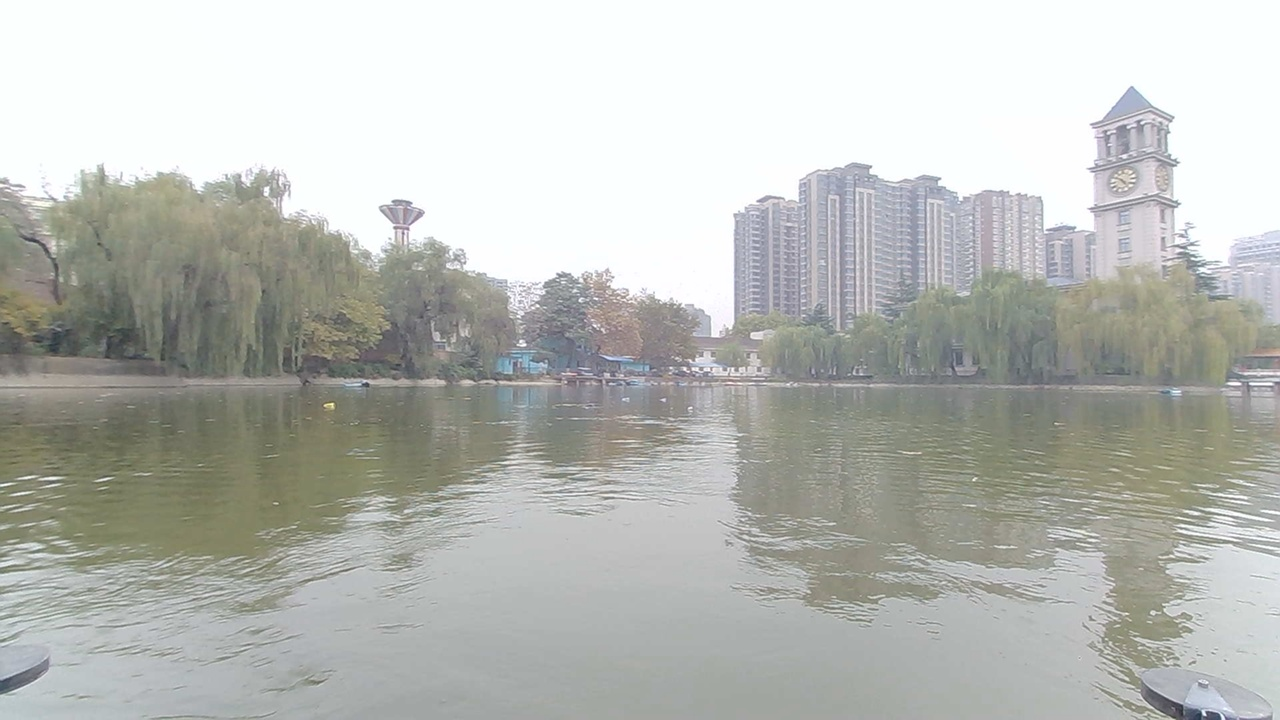bottle: (605, 387, 644, 408), (317, 395, 347, 417), (677, 397, 703, 417), (650, 389, 676, 408)
